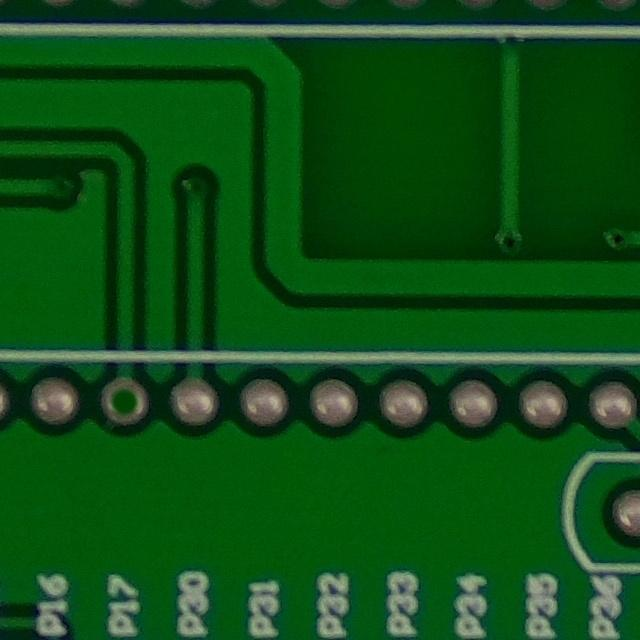missing_hole: (96, 364, 161, 436)
